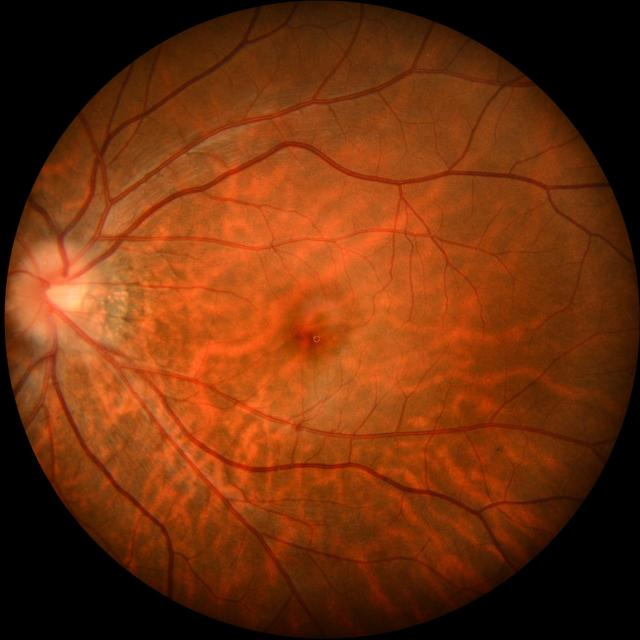OC: (47, 277, 82, 314)
OD: (13, 249, 89, 331)
